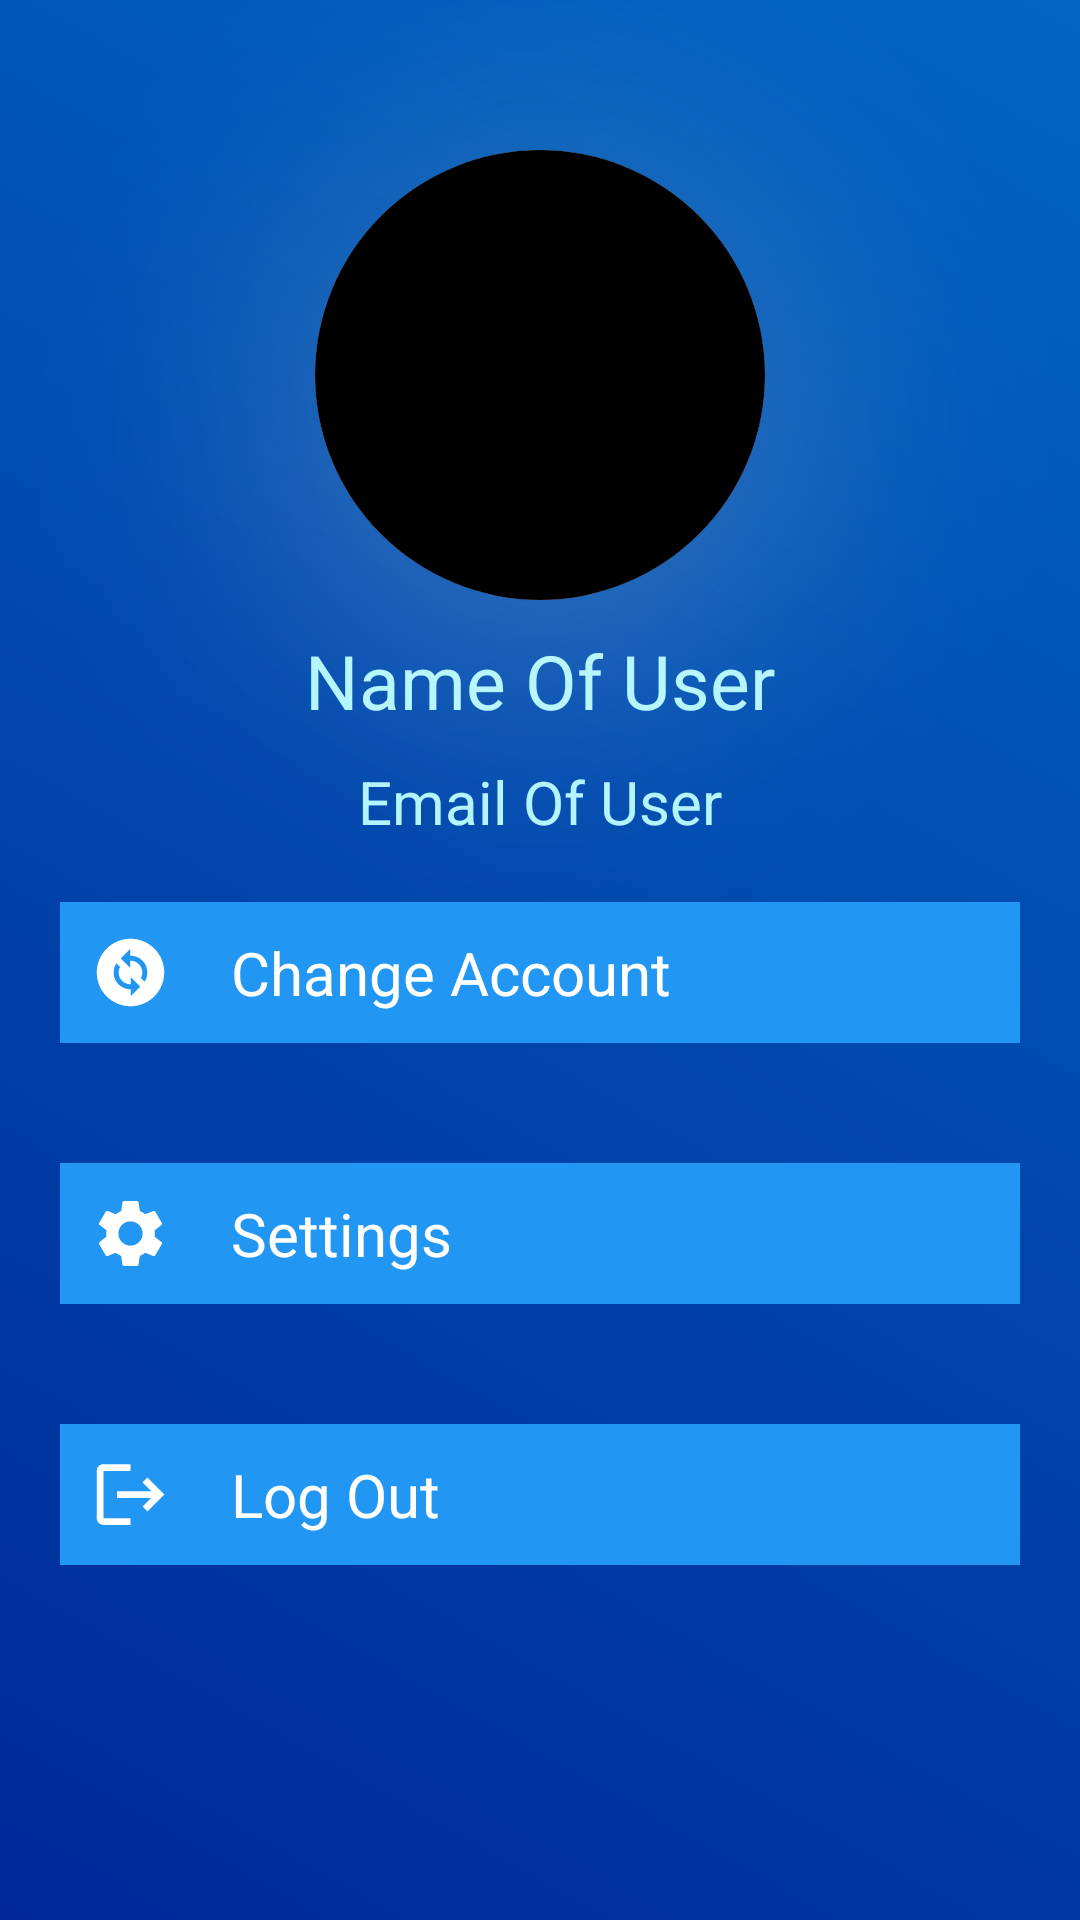

Locate icon controls on the screen. Image size 1080 x 1920, boxes as box(x1, y1, x2, y2).
change circle: box(96, 938, 165, 1007)
